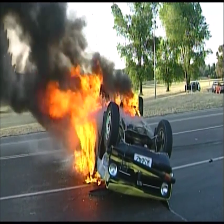fire_h: (41, 61, 109, 176), (122, 90, 141, 117)
fire_l: (85, 171, 101, 186), (115, 95, 121, 105)
